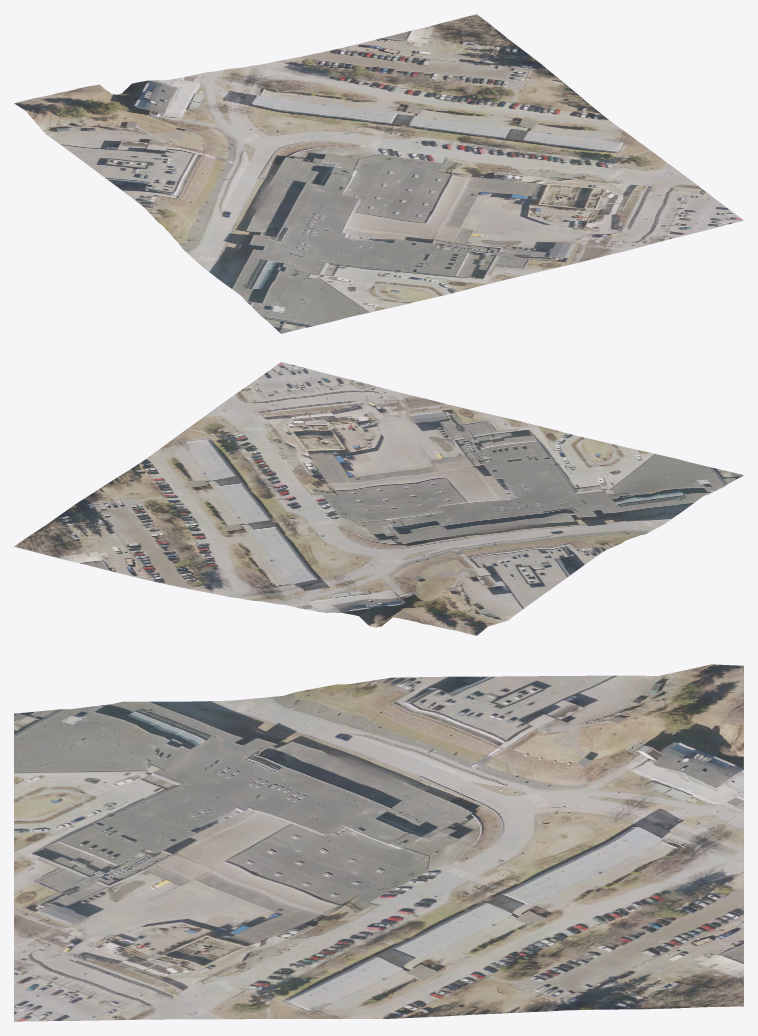
Rendered from CM_Terrain_24490254_6821841.fbx.
3 renders of one model, top to bottom at view 1: azimuth 30°, elevation 25°; view 2: azimuth 150°, elevation 25°; view 3: azimuth 270°, elevation 25°, orthographic. The views are drawn at different scales.
Parts seen in each view (by area): view 1: CM_Terrain_24490254_6821841_LOD0; view 2: CM_Terrain_24490254_6821841_LOD0; view 3: CM_Terrain_24490254_6821841_LOD0.
Part boxes in pixels (left/top/right/bottom): CM_Terrain_24490254_6821841_LOD0: left=14, top=14, right=743, bottom=333; CM_Terrain_24490254_6821841_LOD0: left=14, top=362, right=743, bottom=635; CM_Terrain_24490254_6821841_LOD0: left=14, top=664, right=743, bottom=1021.
Size of what is drawn, in the model's own units: 205 by 16.93 by 205.
